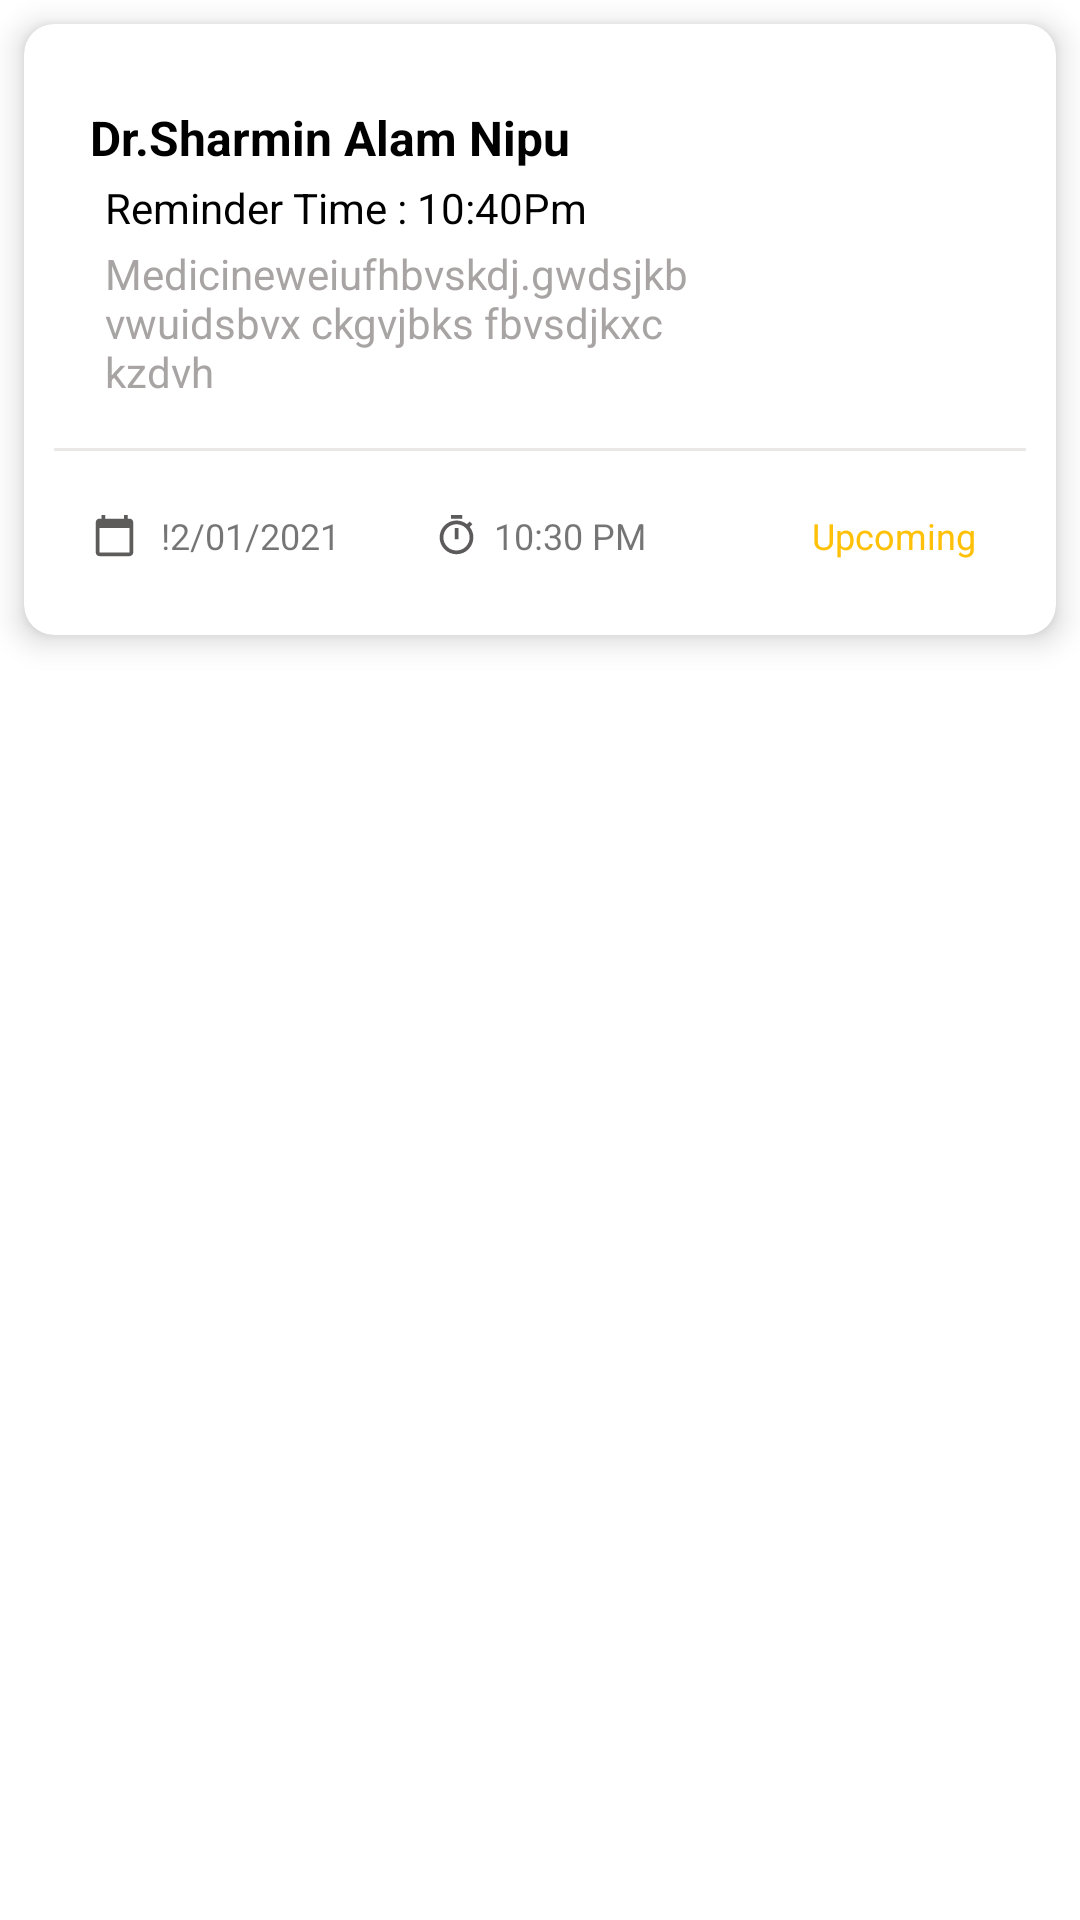

Where to tap for icons on this 1080x1920 app screen, as (x=x, y=y):
calender: (x=114, y=536)
timer: (x=456, y=535)
